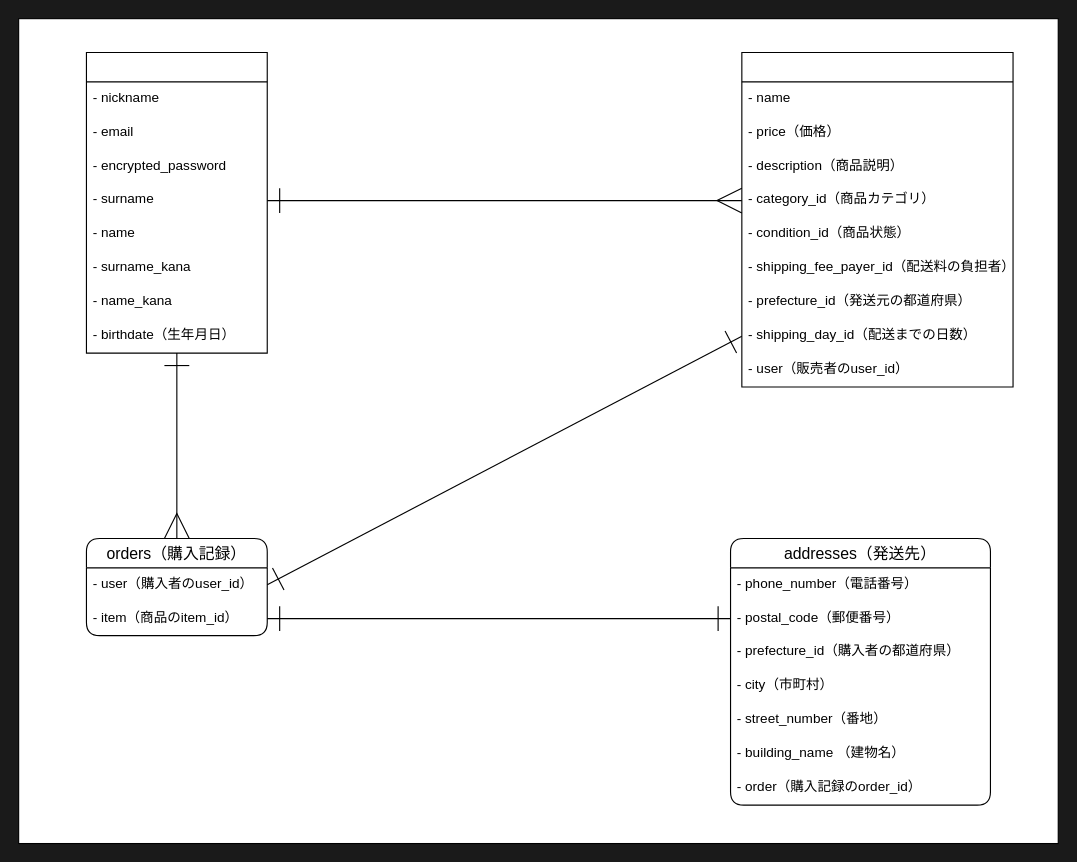
Image size: 1077x862. Some labels were removed from this diagram. Here are the shapes that lost their labels. From the top down, the box of each, then its label:
(85, 51, 267, 353): users
(741, 51, 1013, 387): items
